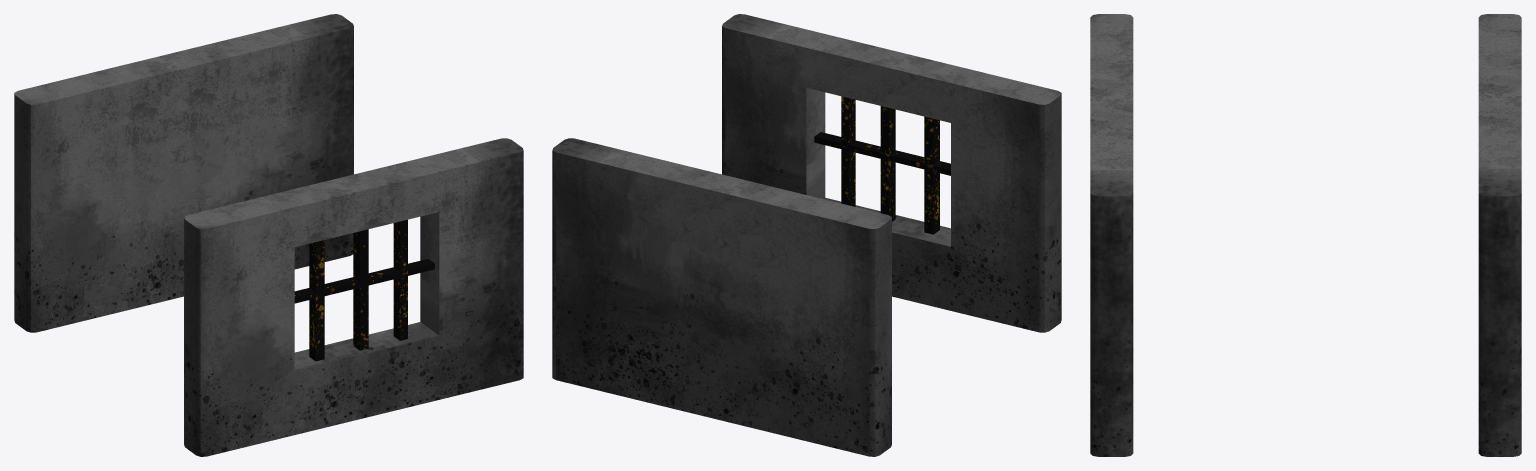
The model's file is MR_Corridor_L_Win_Tex.fbx.
The picture shows the model from 3 angles, left to right: view 1: azimuth 30°, elevation 25°; view 2: azimuth 150°, elevation 25°; view 3: azimuth 270°, elevation 25°; orthographic projection. The views are drawn at different scales.
Parts seen in each view (by area): view 1: pasted__pasted__pasted__M_Wall_Single, pasted__pasted__M_Wall_Single; view 2: pasted__pasted__M_Wall_Single, pasted__pasted__pasted__M_Wall_Single; view 3: pasted__pasted__M_Wall_Single, pasted__pasted__pasted__M_Wall_Single.
Boxes of the visible parts, box(x1,y1,x2,y2) form: pasted__pasted__pasted__M_Wall_Single: box(184, 138, 523, 456); pasted__pasted__M_Wall_Single: box(14, 14, 353, 332); pasted__pasted__M_Wall_Single: box(552, 138, 891, 456); pasted__pasted__pasted__M_Wall_Single: box(722, 14, 1061, 332); pasted__pasted__M_Wall_Single: box(1478, 14, 1521, 456); pasted__pasted__pasted__M_Wall_Single: box(1090, 14, 1133, 456).
Size of the model in its own units: 150 by 100 by 150.
Materials: 2 (2 with a texture image).
